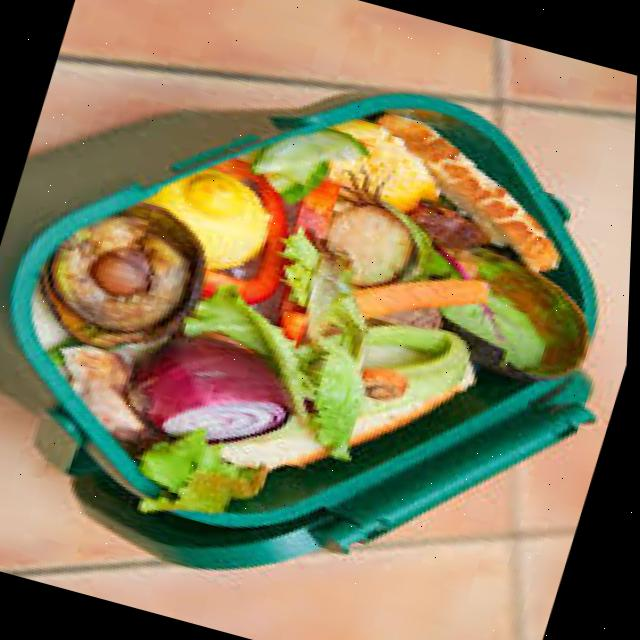Wet: (41, 193, 213, 346), (126, 322, 310, 460), (343, 246, 502, 352), (146, 153, 287, 270), (253, 109, 373, 198)
